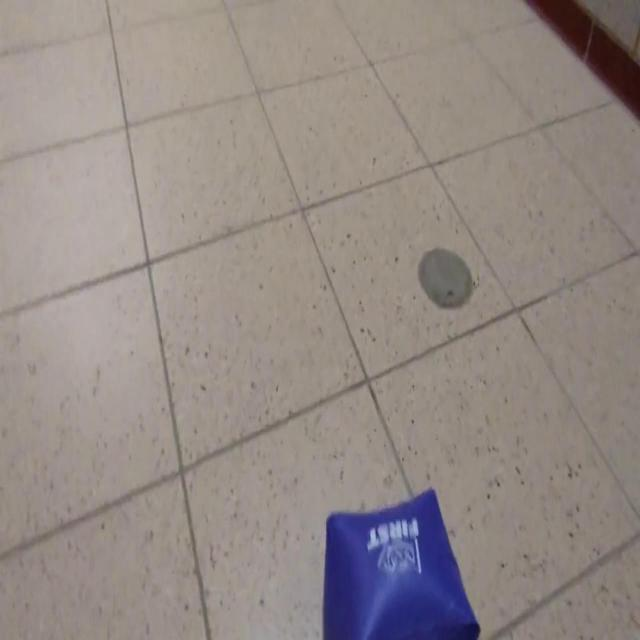frc_cube: (320, 490, 480, 640)
